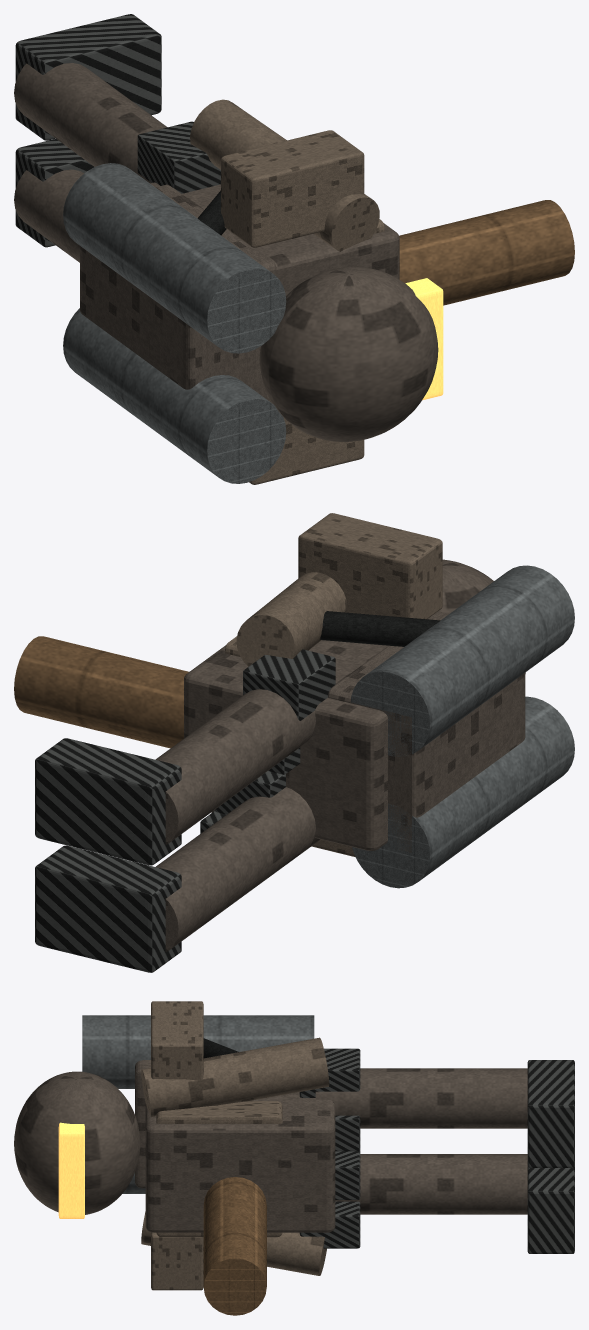
Rendered from d-u08-dominion-flamethrower-lod0.glb.
3 renders of one model, top to bottom at view 1: azimuth 30°, elevation 25°; view 2: azimuth 150°, elevation 25°; view 3: azimuth 270°, elevation 25°, orthographic. The views are drawn at different scales.
Parts seen in each view (by area): view 1: soldier_0_helmet, fuel_tank_1, fuel_tank_-1, soldier_0_flamer, soldier_0_shoulder_1, soldier_0_backpack, soldier_0_leg_1, soldier_0_boot_1, soldier_0_arm_1, soldier_0_torso, soldier_0_pouch_3, soldier_0_leg_-1 (+4 smaller); view 2: fuel_tank_1, soldier_0_torso, soldier_0_boot_-1, soldier_0_boot_1, fuel_tank_-1, soldier_0_flamer, soldier_0_leg_-1, soldier_0_backpack, soldier_0_leg_1, soldier_0_shoulder_1, soldier_0_arm_1, soldier_0_pouch_3 (+3 smaller); view 3: soldier_0_torso, soldier_0_helmet, soldier_0_leg_1, soldier_0_leg_-1, soldier_0_arm_1, soldier_0_flamer, fuel_tank_1, soldier_0_boot_1, soldier_0_shoulder_1, soldier_0_boot_-1, soldier_0_shoulder_-1, soldier_0_chest (+7 smaller).
Boxes of the visible parts, <box> form: soldier_0_helmet: <box>259,267,438,441</box>; fuel_tank_1: <box>63,163,286,353</box>; fuel_tank_-1: <box>63,308,286,483</box>; soldier_0_flamer: <box>399,200,574,305</box>; soldier_0_shoulder_1: <box>221,130,364,247</box>; soldier_0_backpack: <box>80,184,276,403</box>; soldier_0_leg_1: <box>14,63,167,183</box>; soldier_0_boot_1: <box>15,14,161,140</box>; soldier_0_arm_1: <box>190,99,379,251</box>; soldier_0_torso: <box>150,182,399,295</box>; soldier_0_pouch_3: <box>137,121,220,193</box>; soldier_0_leg_-1: <box>14,169,83,262</box>; fuel_tank_1: <box>350,565,574,756</box>; soldier_0_torso: <box>184,640,387,850</box>; soldier_0_boot_-1: <box>35,845,181,972</box>; soldier_0_boot_1: <box>35,738,181,865</box>; fuel_tank_-1: <box>352,696,574,888</box>; soldier_0_flamer: <box>14,636,188,748</box>; soldier_0_leg_-1: <box>156,787,319,951</box>; soldier_0_backpack: <box>328,611,525,852</box>; soldier_0_leg_1: <box>155,689,315,844</box>; soldier_0_shoulder_1: <box>298,513,442,619</box>; soldier_0_arm_1: <box>236,572,347,666</box>; soldier_0_pouch_3: <box>243,649,335,720</box>; soldier_0_torso: <box>145,1092,335,1232</box>; soldier_0_helmet: <box>14,1071,140,1214</box>; soldier_0_leg_1: <box>315,1068,527,1128</box>; soldier_0_leg_-1: <box>335,1154,527,1214</box>; soldier_0_arm_1: <box>141,1037,329,1116</box>; soldier_0_flamer: <box>203,1177,266,1315</box>; fuel_tank_1: <box>82,1015,314,1088</box>; soldier_0_boot_1: <box>527,1060,574,1167</box>; soldier_0_shoulder_1: <box>151,1001,203,1080</box>; soldier_0_boot_-1: <box>527,1166,574,1253</box>; soldier_0_shoulder_-1: <box>151,1232,203,1290</box>; soldier_0_chest: <box>156,1101,282,1237</box>.
Size of what is drawn, in the model's own units: 1.56 by 1.04 by 2.13.
Materials: 7 (7 with a texture image).
